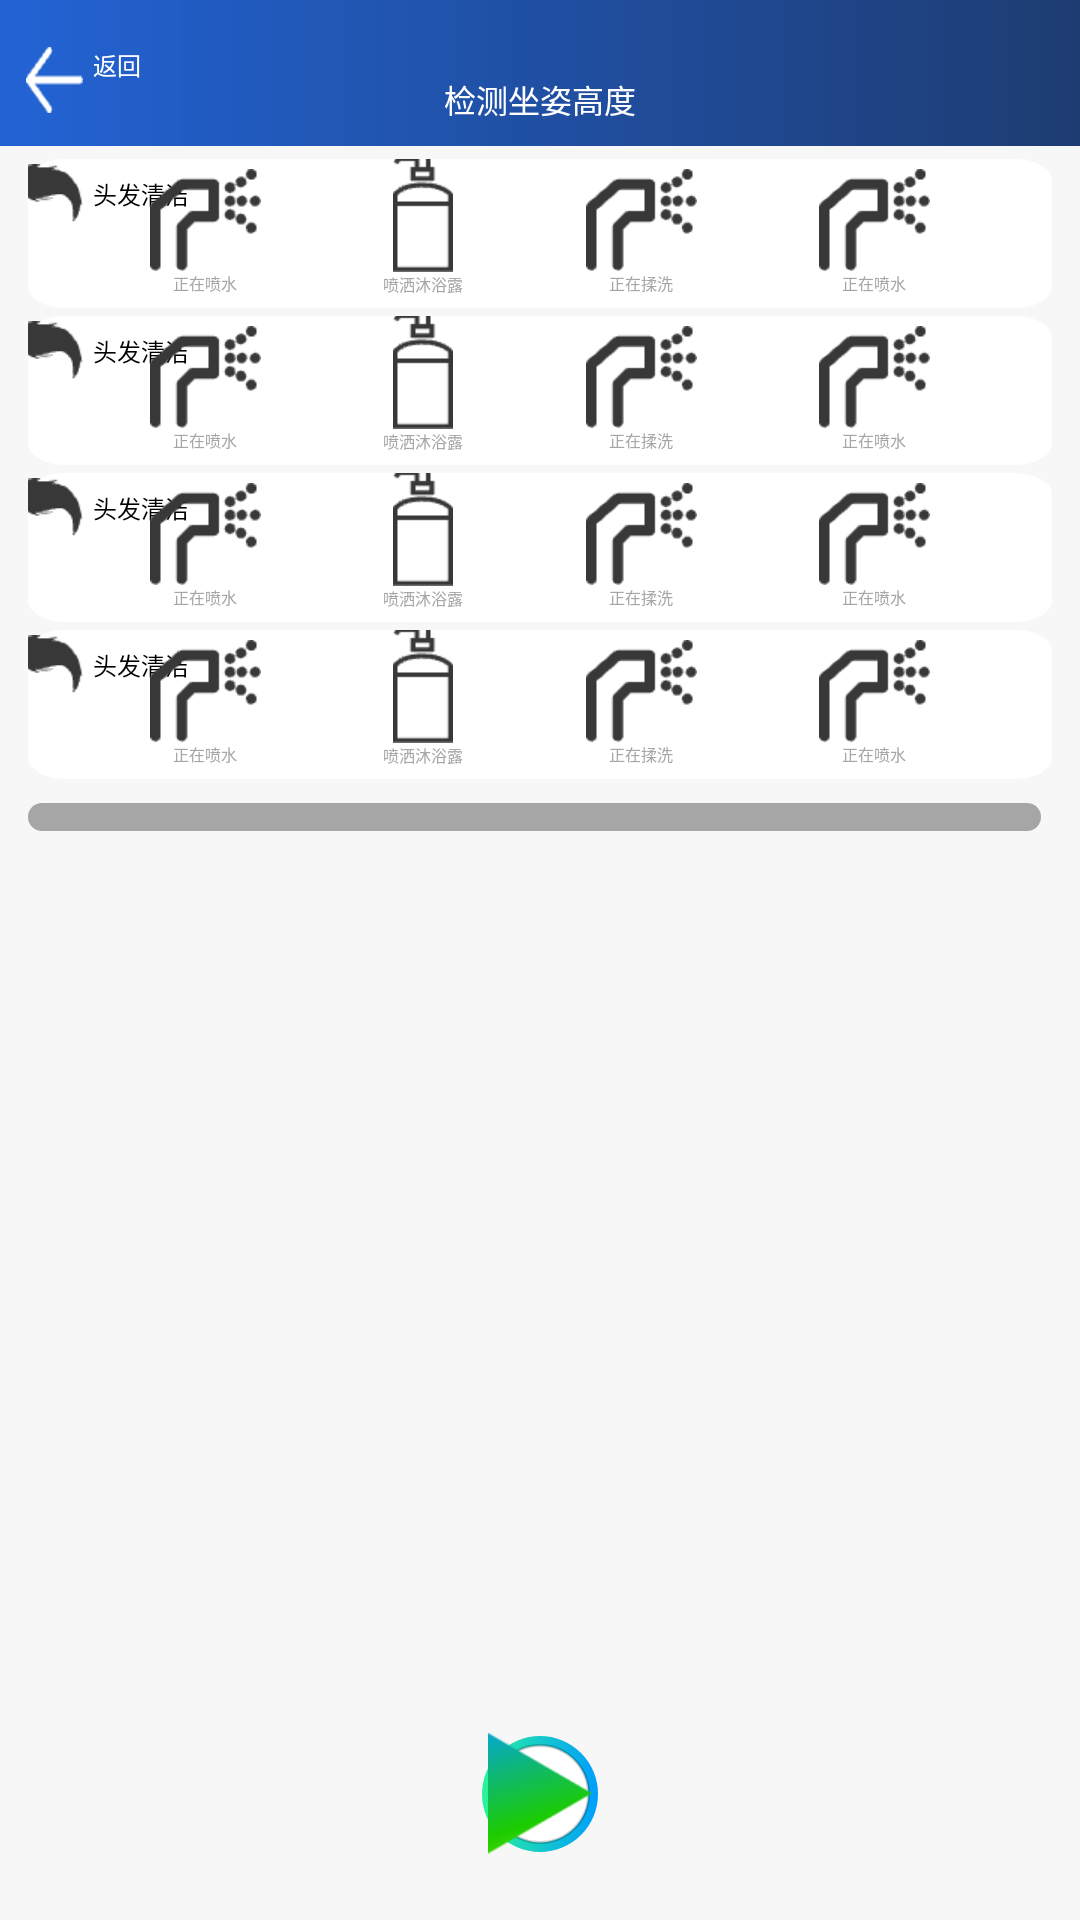

Screen size 1080px x 1920px. Icon name, then its center in pixels as (x,y):
triangle: (540,1793)
